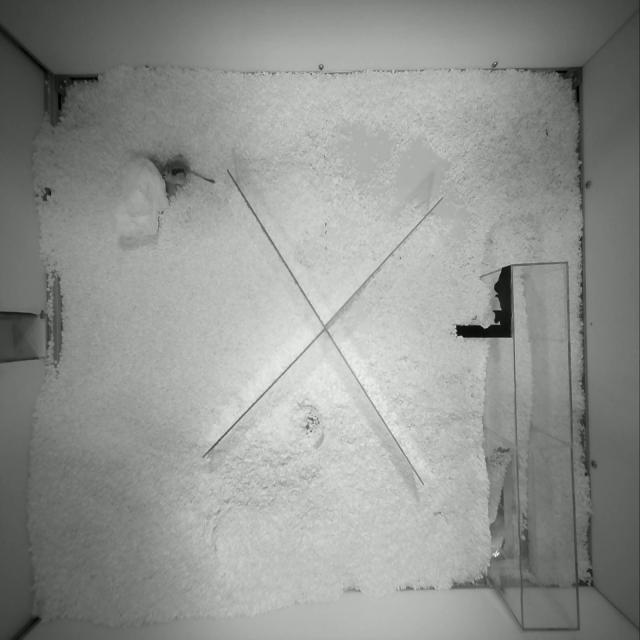pup_v_stripe: (159, 156, 215, 187)
